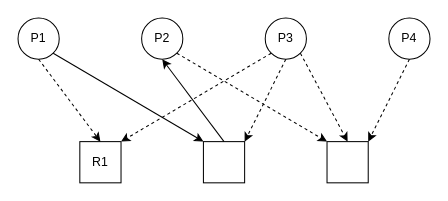
Image size: 448x201. Some labels were removed from this diagram. Each missing label, with the centre of its shape:
"R2" goes at (223,162).
"R3" goes at (347,162).
